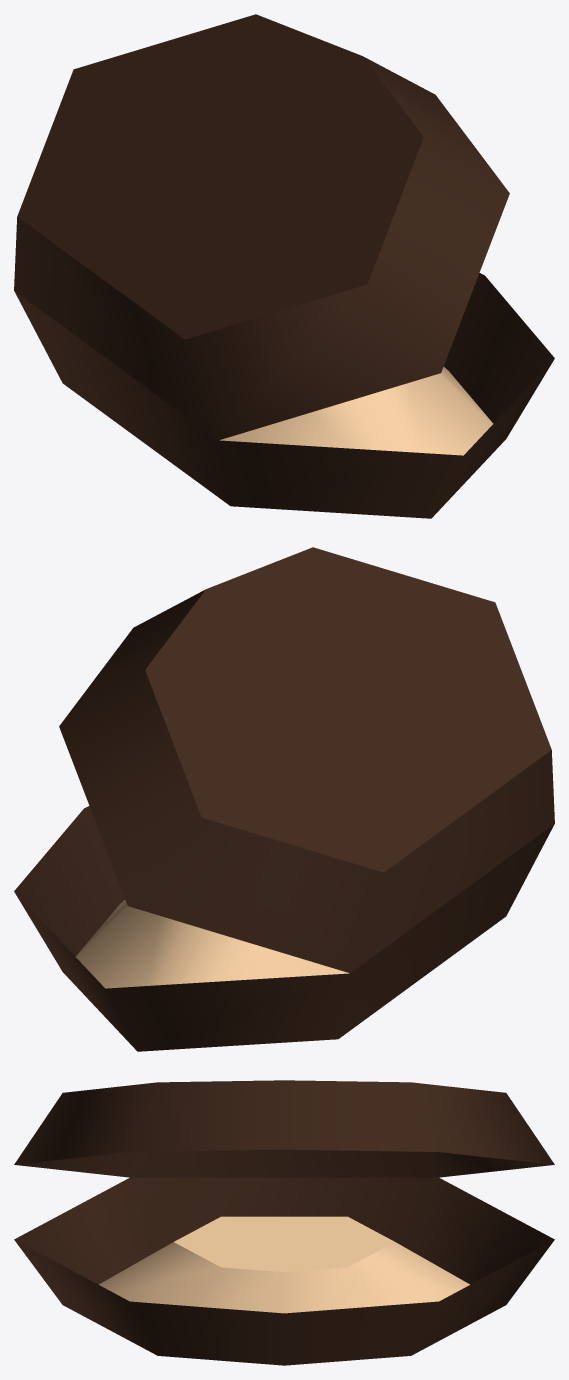
File: mussel-3XtsZo4O.glb
3 views of the same model, one above another, from view 1: azimuth 30°, elevation 25°; view 2: azimuth 150°, elevation 25°; view 3: azimuth 270°, elevation 25° (orthographic). The views are drawn at different scales.
Parts seen in each view (by area): view 1: musselOpen; view 2: musselOpen; view 3: musselOpen.
Boxes of the visible parts, x1,y1,x2,y2 form: musselOpen: (14, 14, 554, 518); musselOpen: (14, 547, 554, 1051); musselOpen: (14, 1080, 554, 1365).
Bounding box in the file's own units: 0.0961 × 0.0804 × 0.1554.
